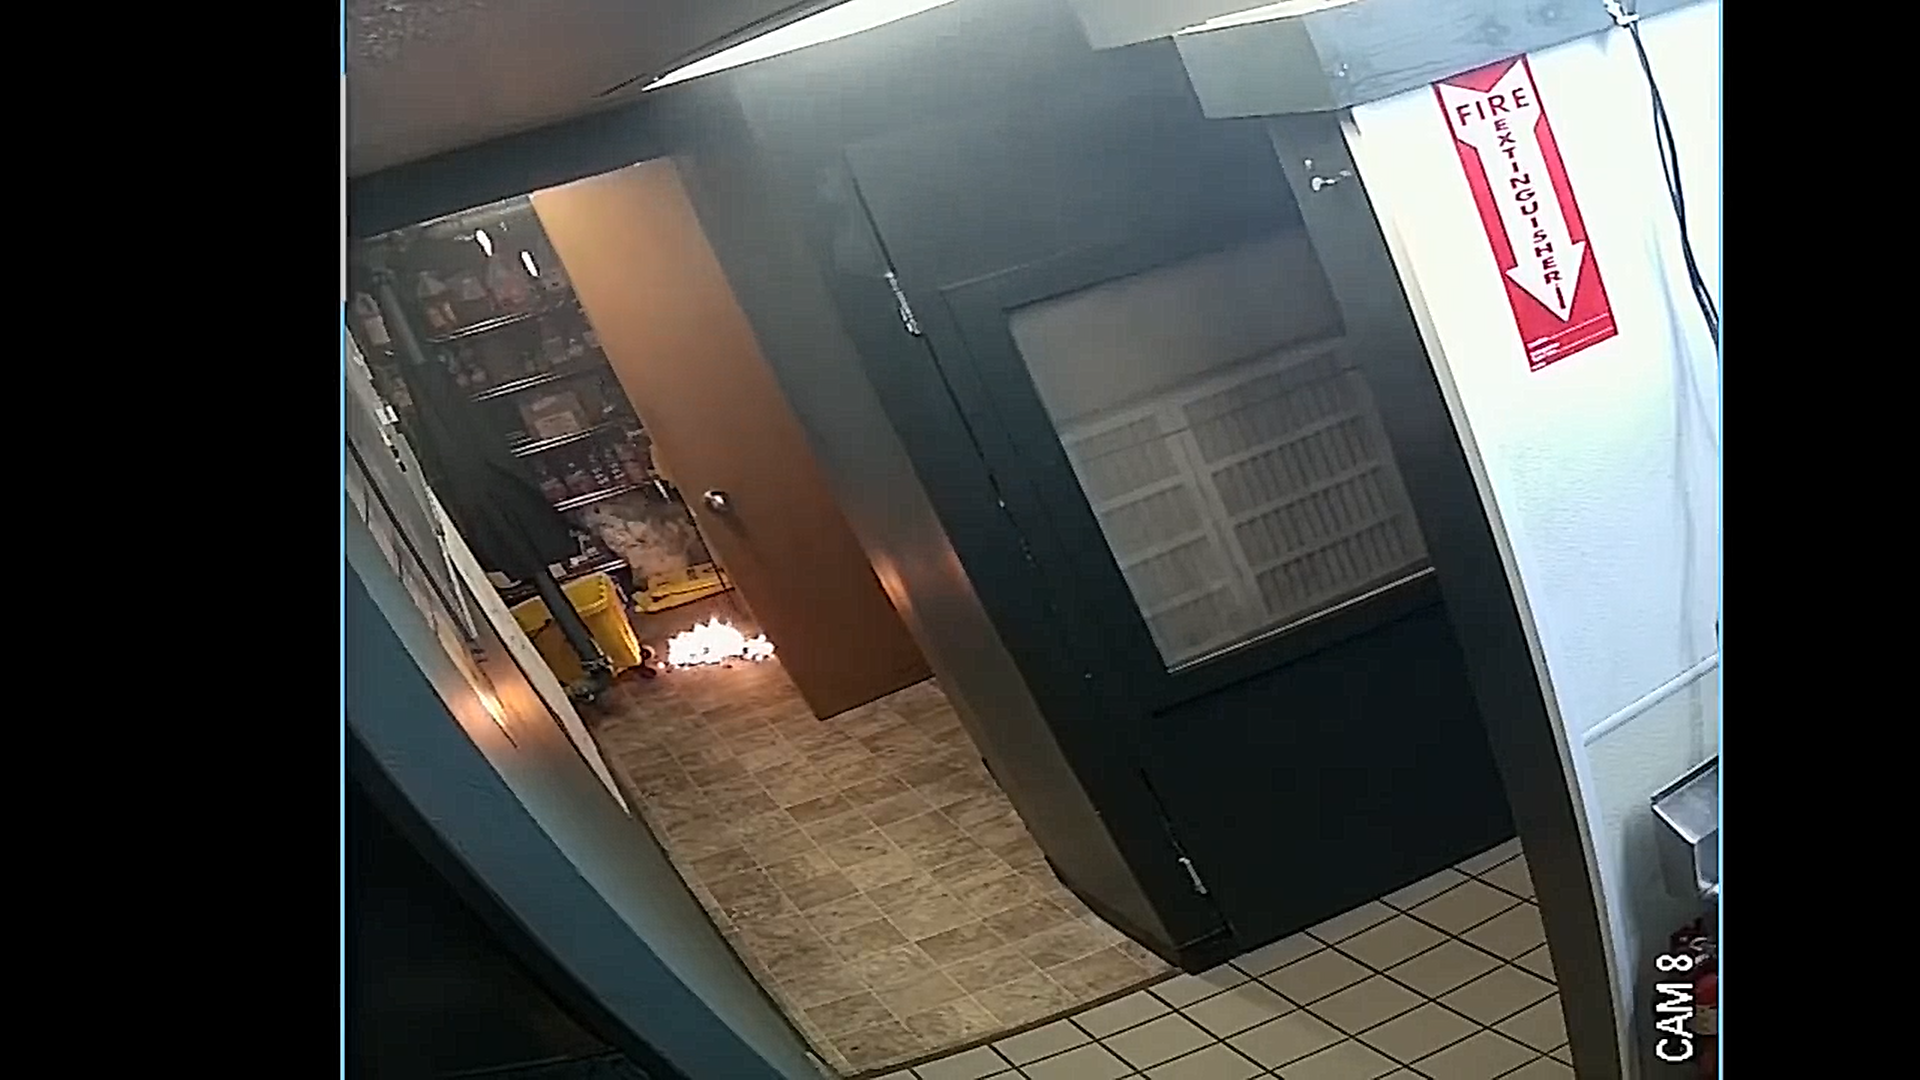fire: (647, 613, 789, 676)
